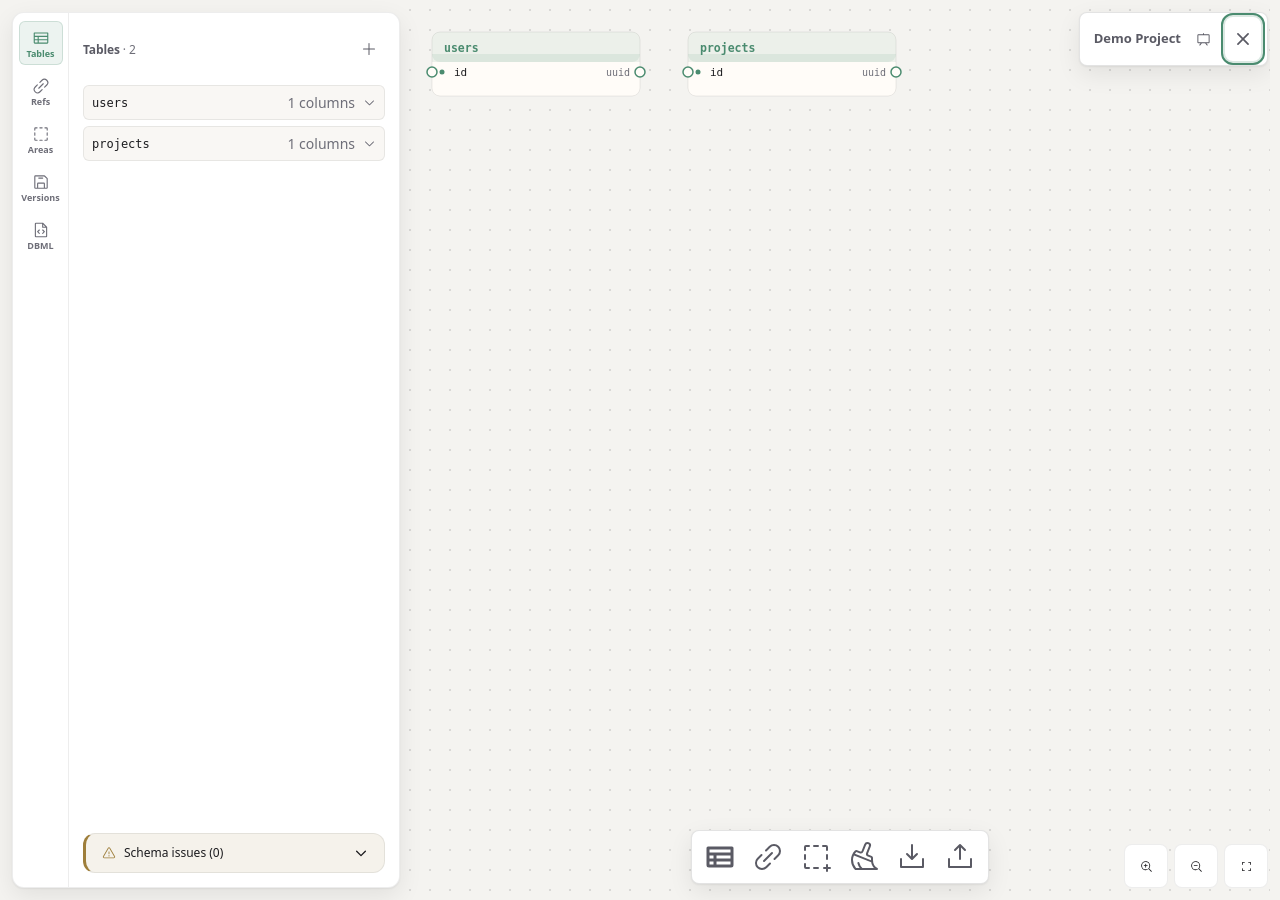
it: SchemaPage U5 issues in props panel (collapsible, bottom-most) › zero issues: panel section auto-collapsed with "No issues", regular tab stays hidden
Check: the element with id "erd-panel-issues-strip" is shown, box [83,833,385,873]
Step 1. Click the button "Schema issues (0)" → [174, 852], box [96,840,374,866]
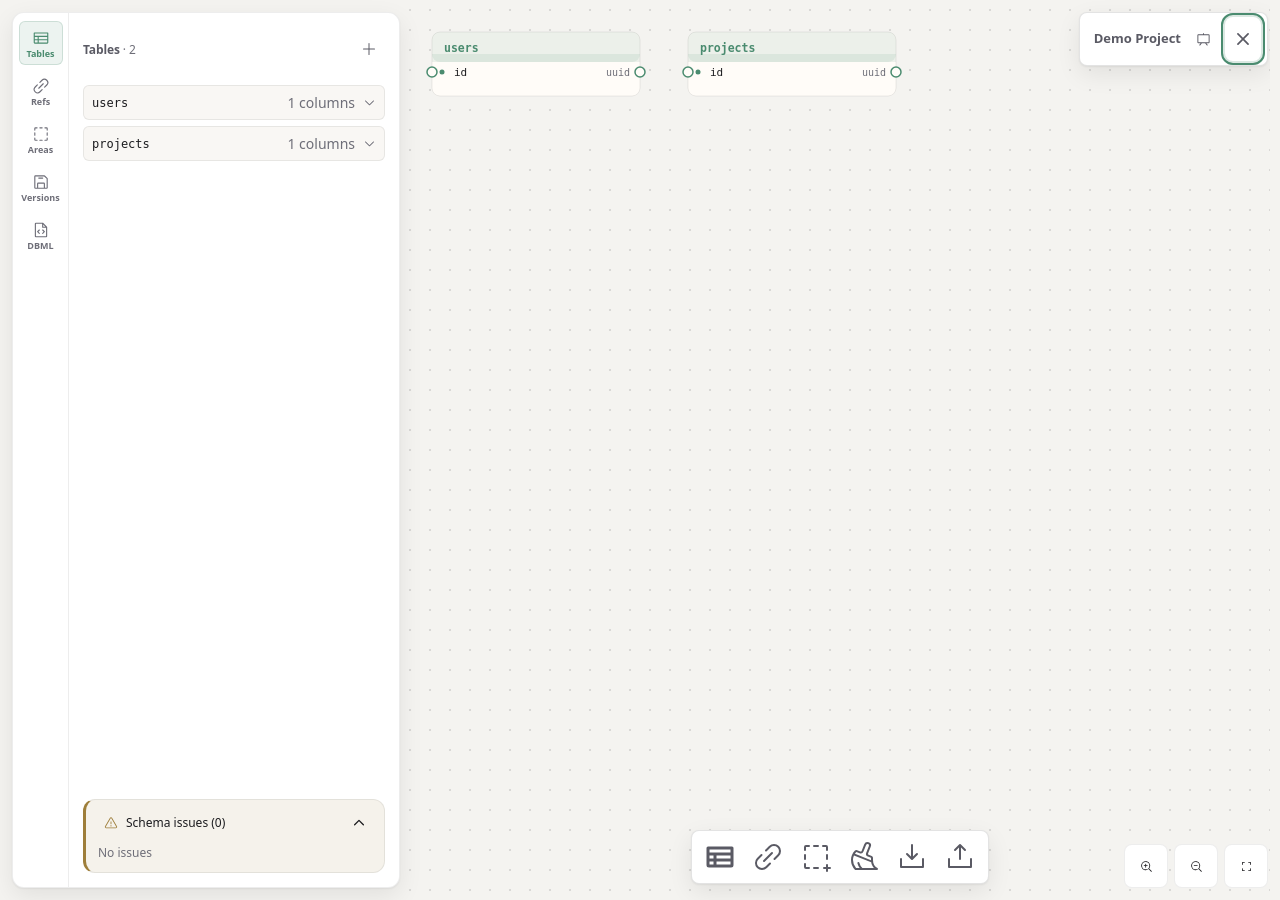
Check: the button "Schema issues (0)" is expanded, box [98,810,372,836]
Check: the text "No issues" is shown, box [98,844,152,861]
